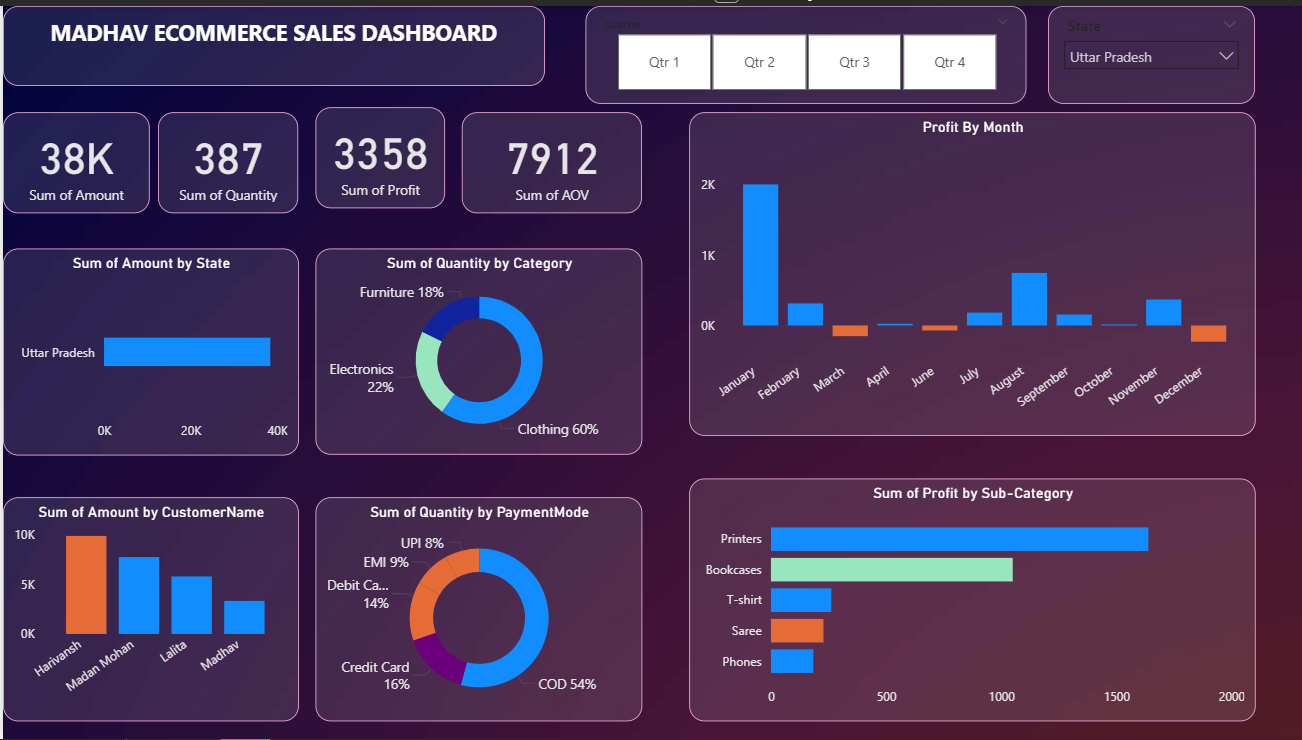

This screenshot's page, from the dashboard's own definition file:
{"tool":"powerbi","page":{"name":"Page 1","canvas":[1280,720],"ordinal":0},"visuals":[{"type":"textbox","box":[0,0,531.9,78],"z":0},{"type":"columnChart","title":"Profit By Month","fields":{"Y":["Sum(Details.Profit)"],"Category":["Orders.Order Date.Variation.Date Hierarchy.Month"]},"box":[673.6,104.4,556,317.6],"z":1000},{"type":"barChart","fields":{"Category":["Details.Sub-Category"],"Y":["Sum(Details.Profit)"]},"box":[673.6,463.7,556,238.5],"z":2000},{"type":"donutChart","fields":{"Category":["Details.Category"],"Y":["Sum(Details.Quantity)"]},"box":[306.6,238.5,320.9,202.2],"z":3000},{"type":"donutChart","fields":{"Category":["Details.PaymentMode"],"Y":["Sum(Details.Quantity)"]},"box":[306.6,482.4,320.9,219.8],"z":4000},{"type":"card","fields":{"Values":["Sum(Details.Amount)"]},"box":[0,104.4,144,98.9],"z":5000},{"type":"card","fields":{"Values":["Sum(Details.Quantity)"]},"box":[152.7,104.4,137.4,98.9],"z":6000},{"type":"card","fields":{"Values":["Sum(Details.Profit)"]},"box":[306.6,100,127.5,98.9],"z":7000},{"type":"card","fields":{"Values":["Sum(Details.AOV)"]},"box":[450.5,104.4,176.9,98.9],"z":8000},{"type":"barChart","fields":{"Category":["Orders.State"],"Y":["Sum(Details.Amount)"]},"box":[0,238.5,290.1,203.3],"z":9000},{"type":"columnChart","fields":{"Category":["Orders.CustomerName"],"Y":["Sum(Details.Amount)"]},"box":[0,482,290,220],"z":10000},{"type":"slicer","fields":{"Values":["Orders.Order Date.Variation.Date Hierarchy.Quarter"]},"box":[571.4,0,433,95.6],"z":11000},{"type":"slicer","fields":{"Values":["Orders.State"]},"box":[1026.4,0,203.3,95.6],"z":12000}]}

Visuals, with their boxes in screenshot pixels (x1, y1, x2, y2), scaled from the page's 1280x720 canvas onto the 1302x740 screenshot:
textbox: select_region(0, 0, 541, 80)
"Profit By Month" columnChart: select_region(685, 107, 1251, 434)
barChart - Details.Sub-Category x Sum(Details.Profit): select_region(685, 477, 1251, 722)
donutChart - Details.Category x Sum(Details.Quantity): select_region(312, 245, 638, 453)
donutChart - Details.PaymentMode x Sum(Details.Quantity): select_region(312, 496, 638, 722)
card - Sum(Details.Amount): select_region(0, 107, 146, 209)
card - Sum(Details.Quantity): select_region(155, 107, 295, 209)
card - Sum(Details.Profit): select_region(312, 103, 442, 204)
card - Sum(Details.AOV): select_region(458, 107, 638, 209)
barChart - Orders.State x Sum(Details.Amount): select_region(0, 245, 295, 454)
columnChart - Orders.CustomerName x Sum(Details.Amount): select_region(0, 495, 295, 721)
slicer - Orders.Order Date.Variation.Date Hierarchy.Quarter: select_region(581, 0, 1022, 98)
slicer - Orders.State: select_region(1044, 0, 1251, 98)
